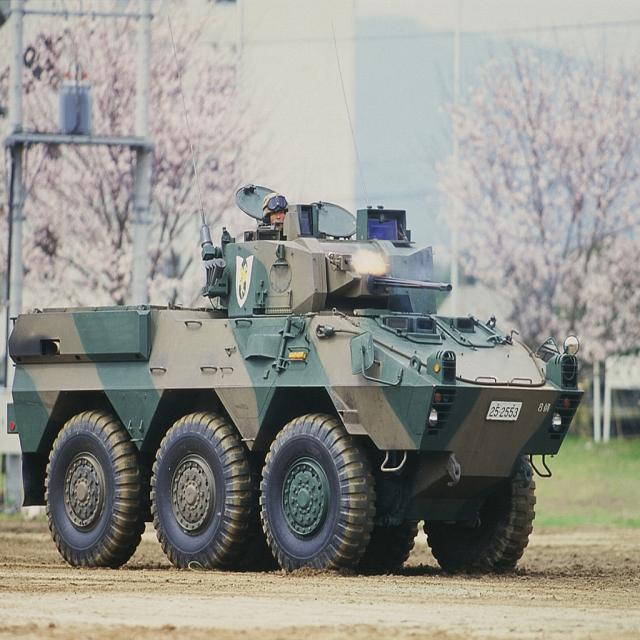tank: (8, 25, 588, 574)
